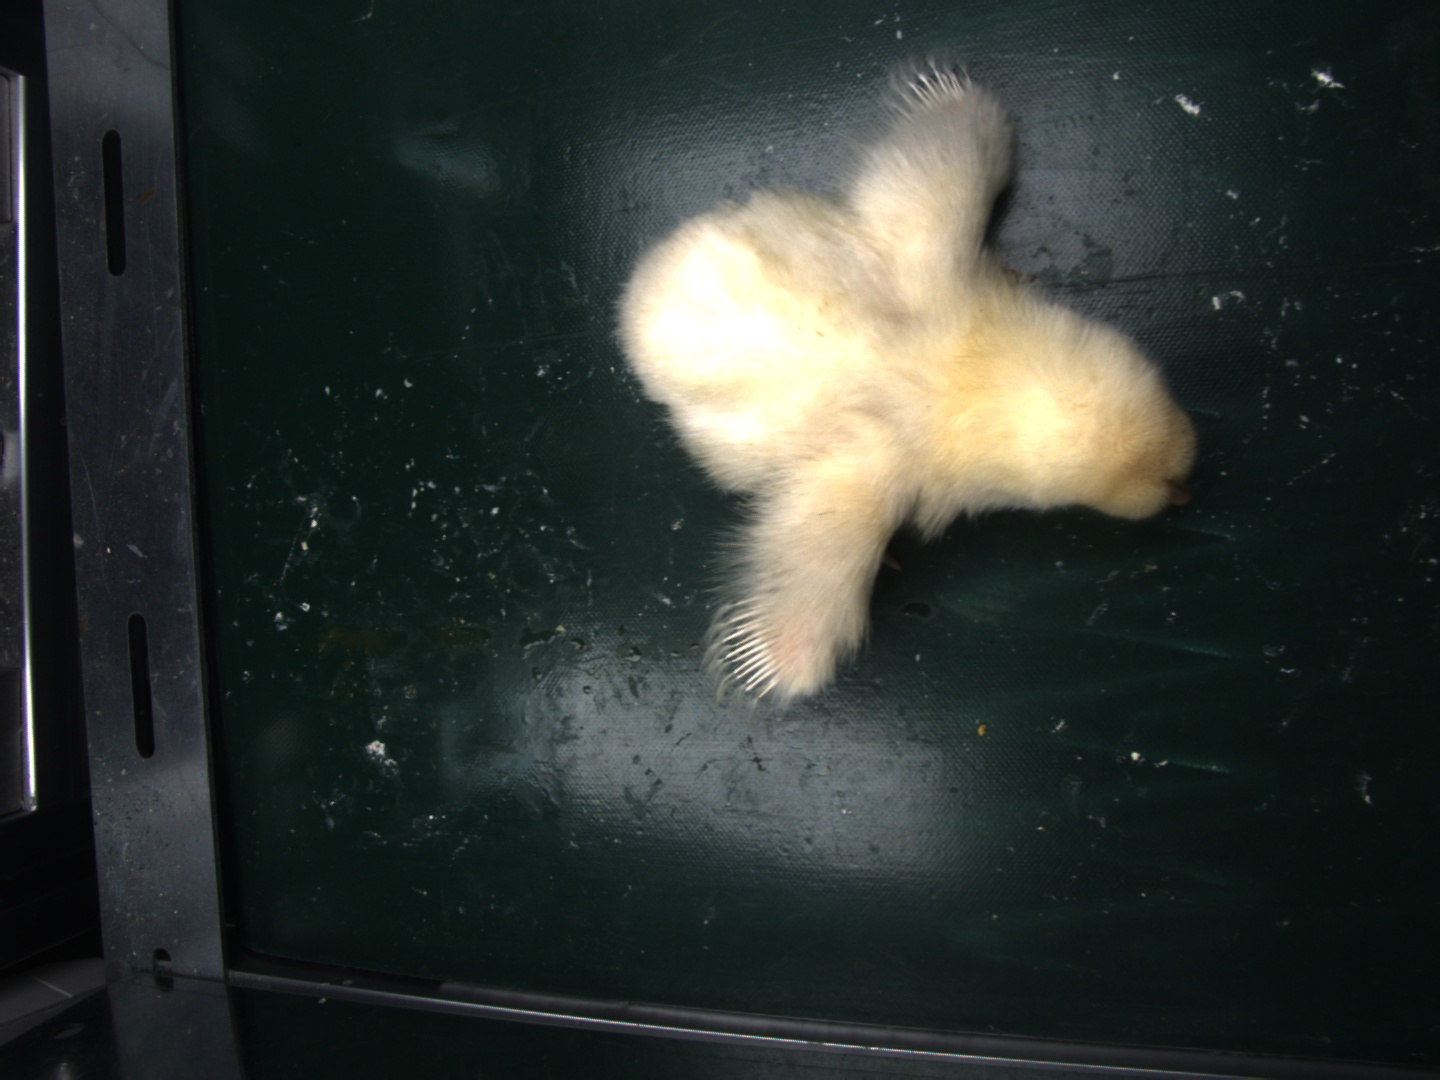male: (719, 600, 782, 695)
